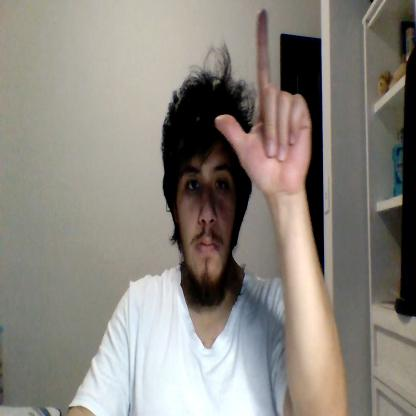L: (215, 11, 311, 191)
